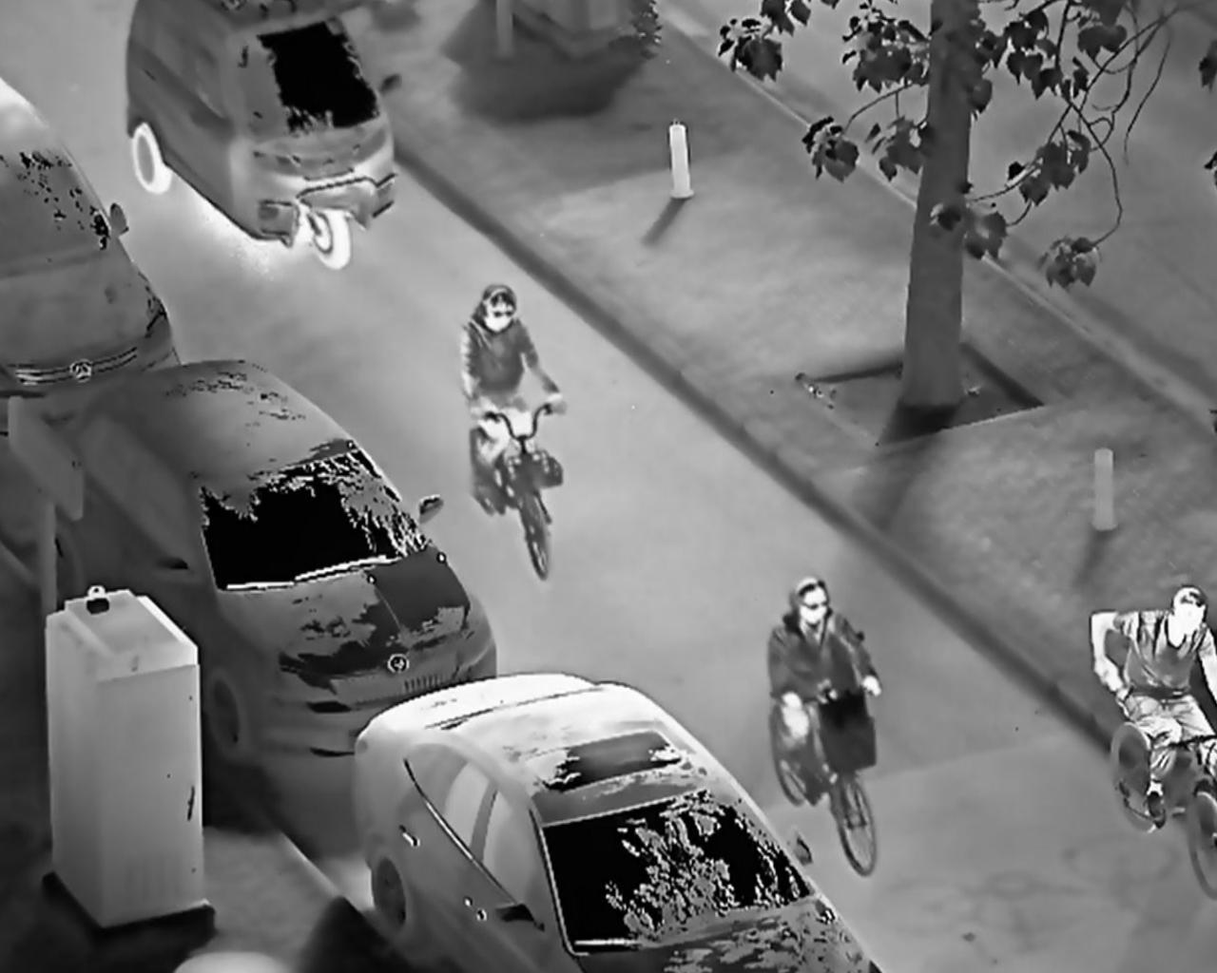person: (1081, 578, 1217, 832), (764, 572, 884, 811), (457, 277, 570, 515)
